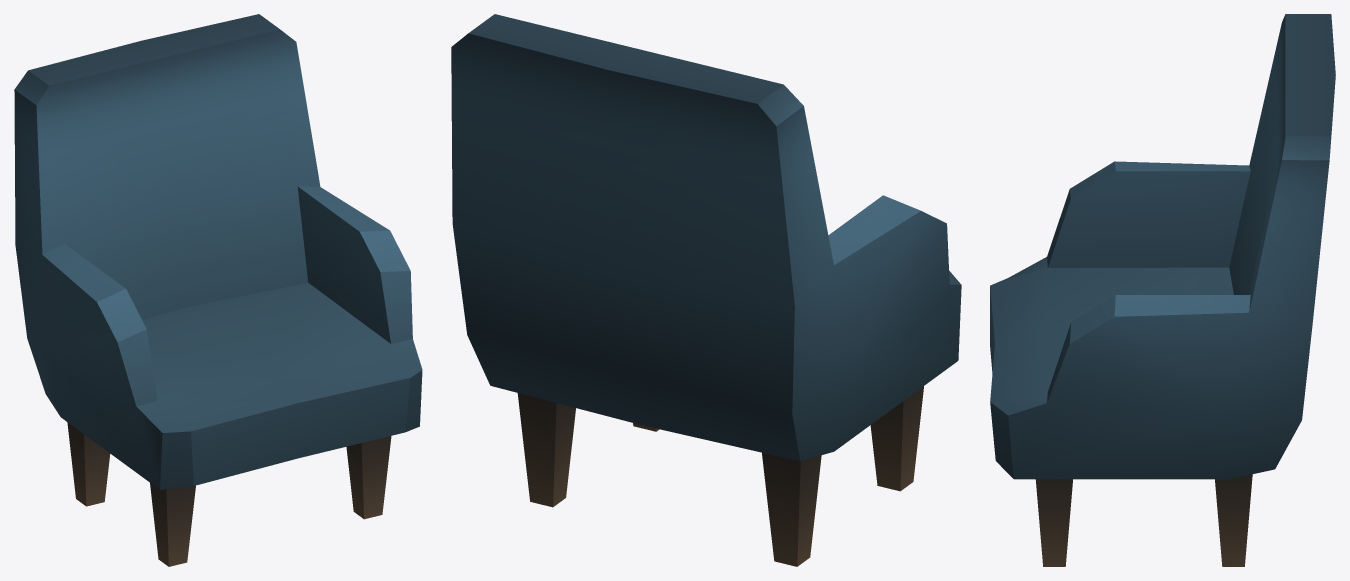
File: Chair_ReadingChair.fbx
The picture shows the model from 3 angles, left to right: view 1: azimuth 30°, elevation 25°; view 2: azimuth 150°, elevation 25°; view 3: azimuth 270°, elevation 25°; orthographic projection. The views are drawn at different scales.
Visible parts, largest first — view 1: Chair_ReadingChair; view 2: Chair_ReadingChair; view 3: Chair_ReadingChair.
Part boxes in pixels (x1,y1,x2,y2): Chair_ReadingChair: (14, 14, 422, 566); Chair_ReadingChair: (451, 14, 961, 566); Chair_ReadingChair: (990, 14, 1335, 566).
Bounding box in the file's own units: 78.82 × 103 × 74.14.
